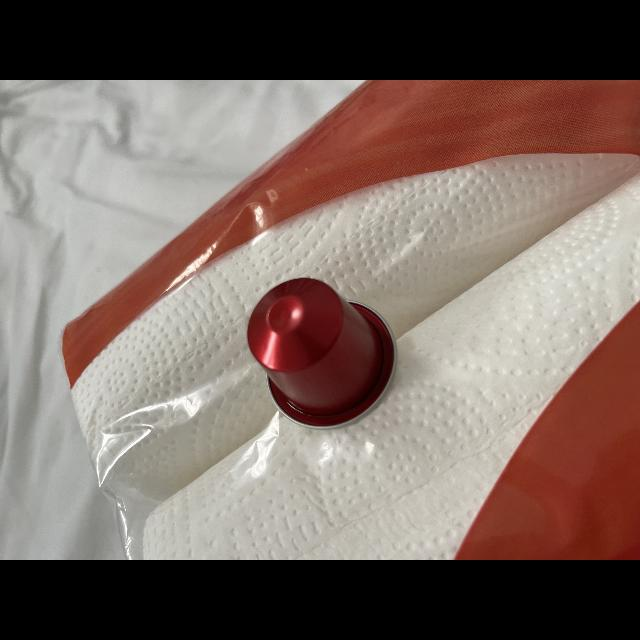intact_capsule: (239, 274, 413, 436)
